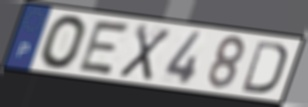4: (162, 30, 203, 87)
8: (206, 35, 246, 91)
D: (239, 39, 289, 96)
E: (75, 18, 134, 77)
O: (38, 13, 89, 71)
X: (116, 22, 174, 83)
